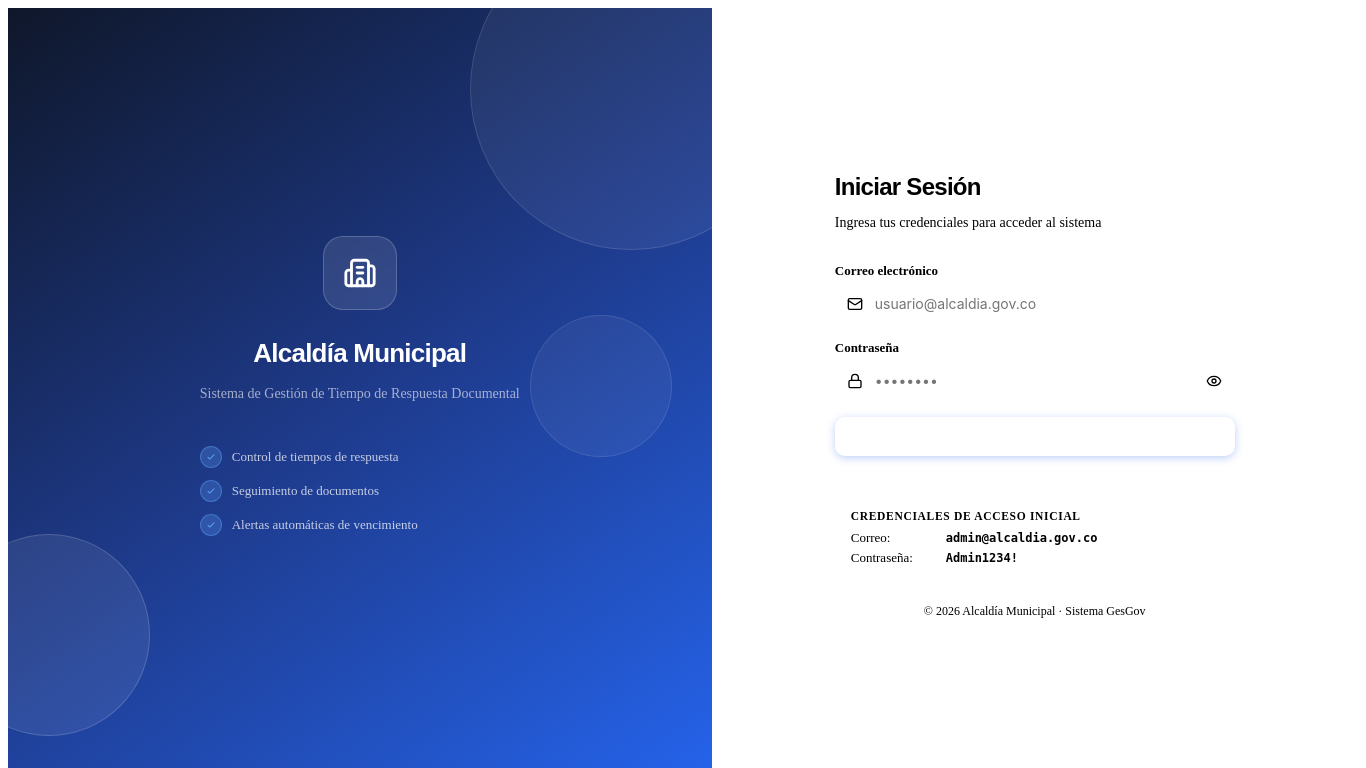
Test: LoginPage › form validation › should show error when email is empty on submit
Click the button "Ingresar al Sistema". click: (1035, 437)
box: [835,417,1235,456]
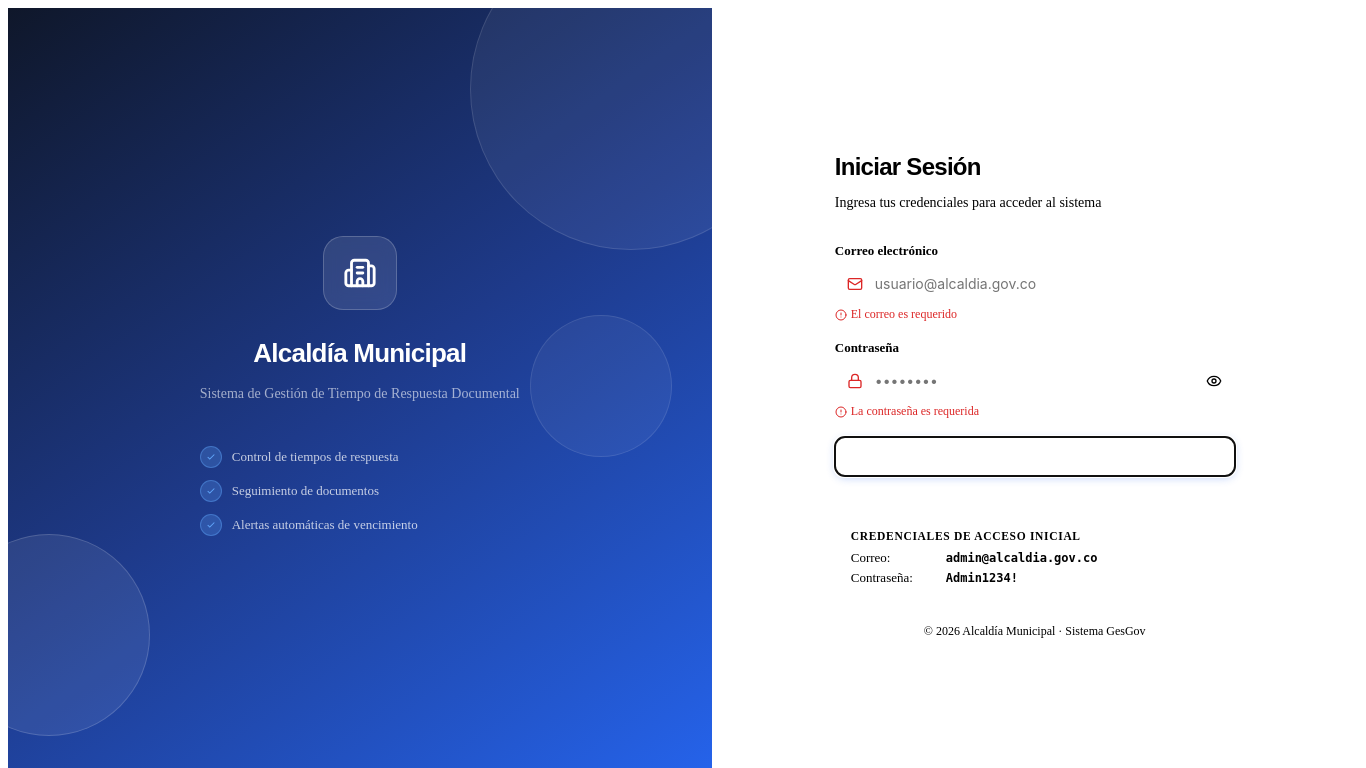
Expected: the text "El correo es requerido" is shown, [835,307,957,321]
